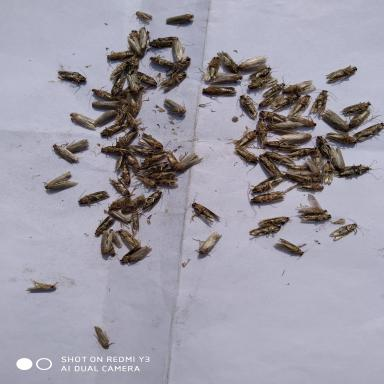pbw: (270, 205, 336, 226), (98, 228, 136, 262), (269, 174, 330, 195), (264, 110, 315, 134), (272, 73, 320, 97), (328, 216, 364, 246), (308, 88, 335, 127), (245, 187, 295, 208), (319, 106, 356, 134), (245, 175, 288, 199), (257, 135, 306, 156), (189, 230, 224, 259), (64, 188, 114, 208), (107, 52, 144, 79), (316, 141, 348, 172), (252, 151, 299, 172), (224, 146, 264, 170), (233, 85, 260, 120), (332, 160, 379, 180), (275, 237, 314, 261), (303, 132, 336, 160), (191, 78, 237, 98), (39, 170, 80, 192), (165, 150, 202, 174), (91, 82, 128, 106), (322, 128, 362, 150), (252, 210, 296, 230), (162, 52, 195, 78), (103, 175, 136, 201), (131, 126, 165, 151), (250, 65, 280, 93), (117, 226, 145, 256), (46, 142, 81, 166), (89, 324, 119, 352), (270, 123, 314, 142), (338, 98, 377, 119), (156, 70, 190, 94), (198, 52, 222, 86), (162, 8, 199, 30), (272, 145, 318, 162), (213, 48, 243, 74), (323, 64, 358, 86), (231, 126, 266, 148), (68, 109, 100, 133), (272, 170, 320, 186), (232, 54, 270, 74), (250, 78, 288, 98), (99, 117, 132, 140), (100, 140, 144, 157), (248, 106, 289, 124), (246, 225, 292, 241), (139, 148, 172, 170), (52, 68, 90, 87), (140, 35, 185, 51), (294, 196, 329, 216), (59, 136, 94, 156), (124, 243, 154, 266), (123, 102, 146, 132), (201, 70, 244, 86), (98, 206, 136, 224), (117, 192, 145, 216), (270, 88, 302, 109), (23, 276, 60, 294), (124, 84, 142, 121), (316, 158, 338, 188), (136, 188, 162, 213), (88, 216, 120, 236), (115, 158, 137, 187), (109, 143, 131, 172), (348, 105, 372, 131), (116, 126, 143, 149), (90, 108, 119, 129), (252, 114, 272, 144), (160, 96, 190, 116), (354, 118, 381, 140), (99, 47, 136, 63), (133, 68, 161, 89), (128, 7, 157, 27), (148, 54, 180, 72), (120, 144, 156, 160), (160, 146, 183, 171), (133, 23, 153, 51), (122, 26, 142, 54), (171, 36, 189, 66), (89, 98, 125, 112), (135, 172, 162, 190), (107, 70, 127, 94), (295, 92, 312, 120), (127, 207, 146, 232), (152, 175, 182, 190), (130, 66, 146, 94), (303, 157, 321, 178)
